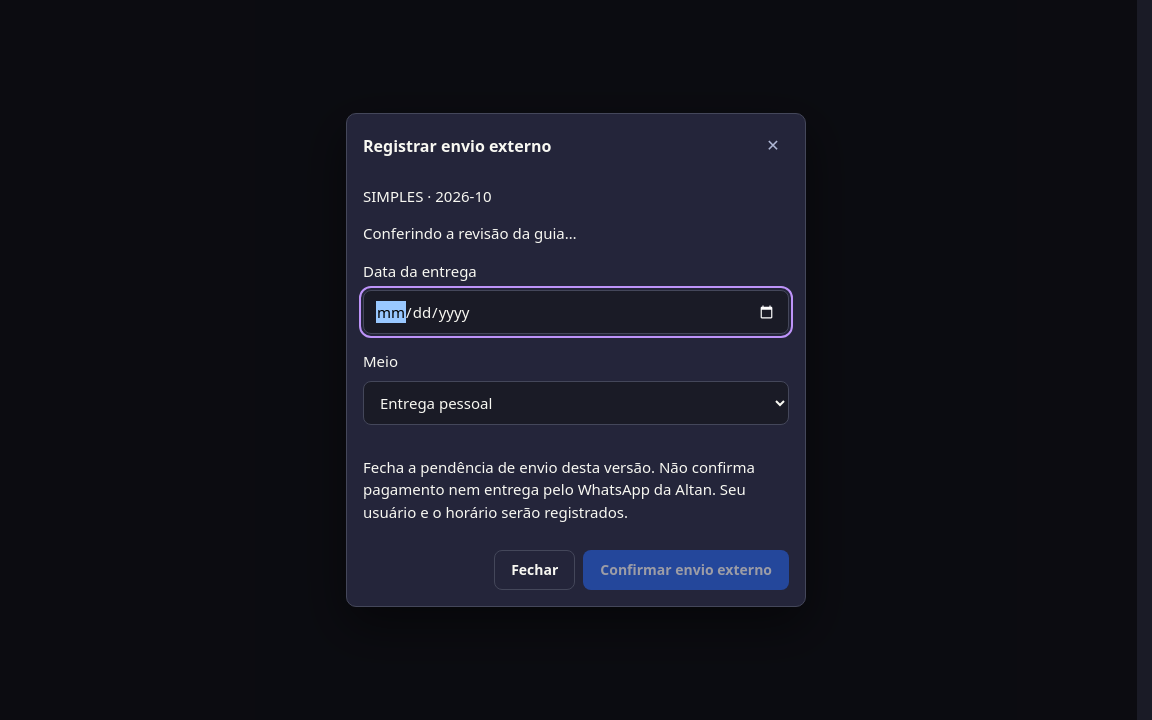
erro de persistência preserva formulário e não anuncia sucesso
The image size is (1152, 720).
In the date field labelled "Data da entrega": (576, 312) [363, 290, 789, 334], type "2026-10-21"
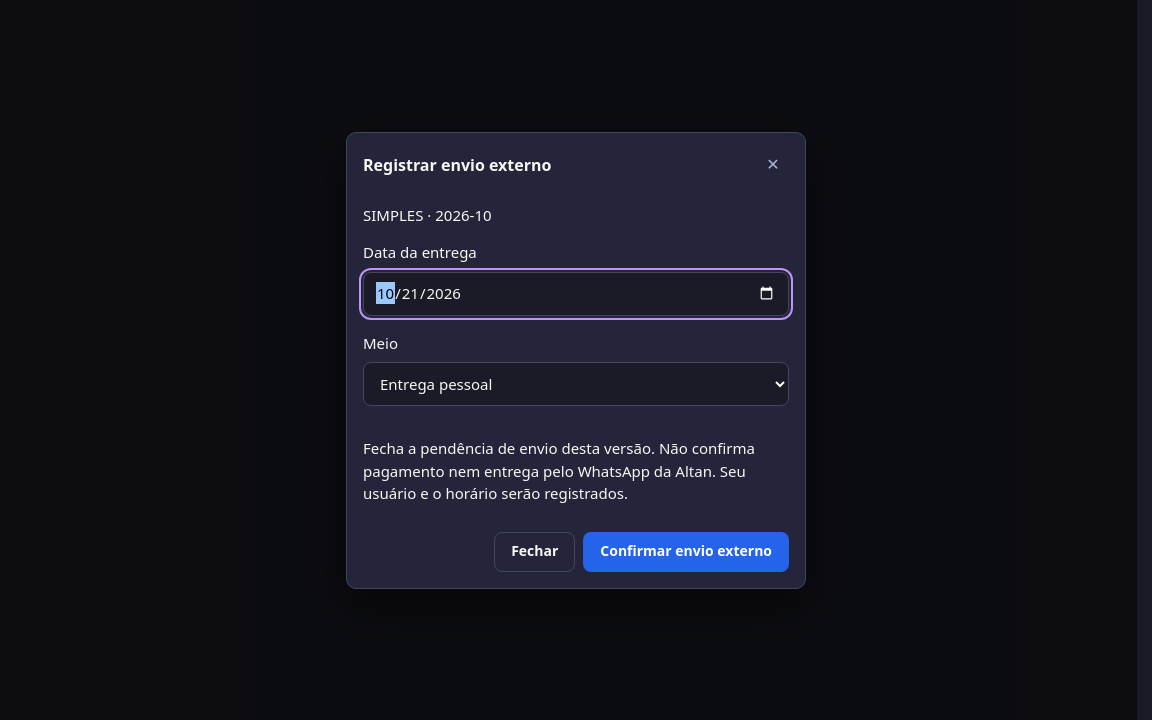
Check: the button "Confirmar envio externo" is enabled
Click the button "Confirmar envio externo": (686, 552) [583, 532, 789, 572]
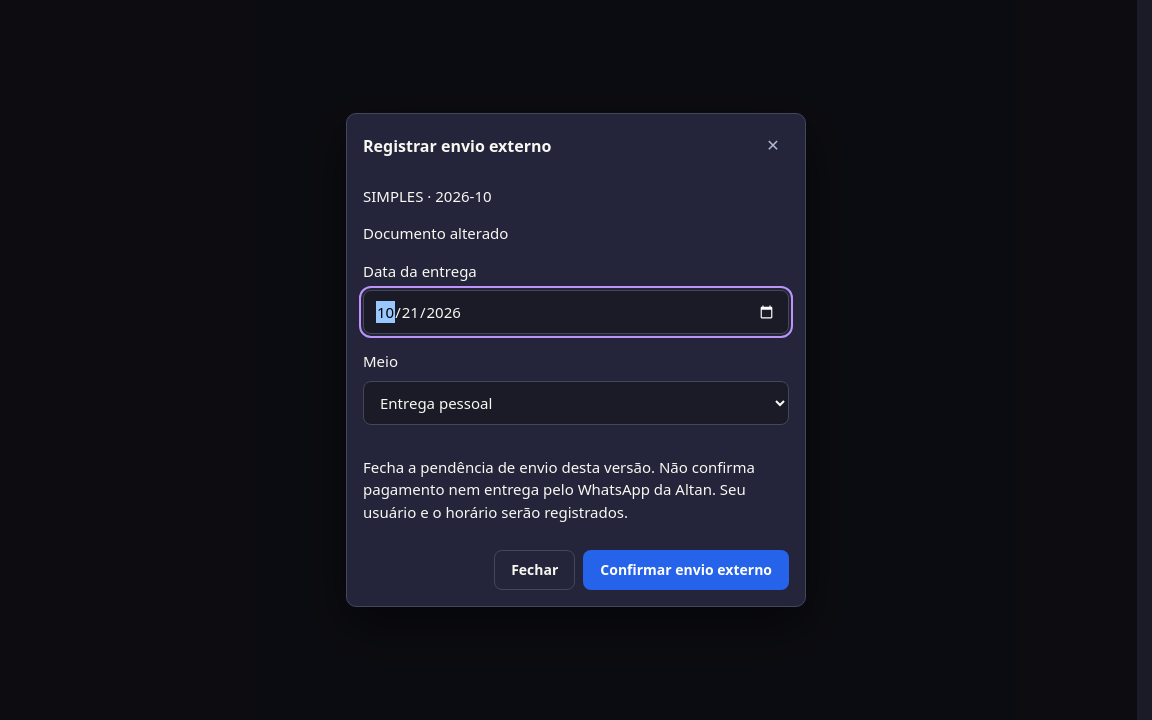
Check: the message reads "Documento alterado", box [363, 223, 508, 243]
